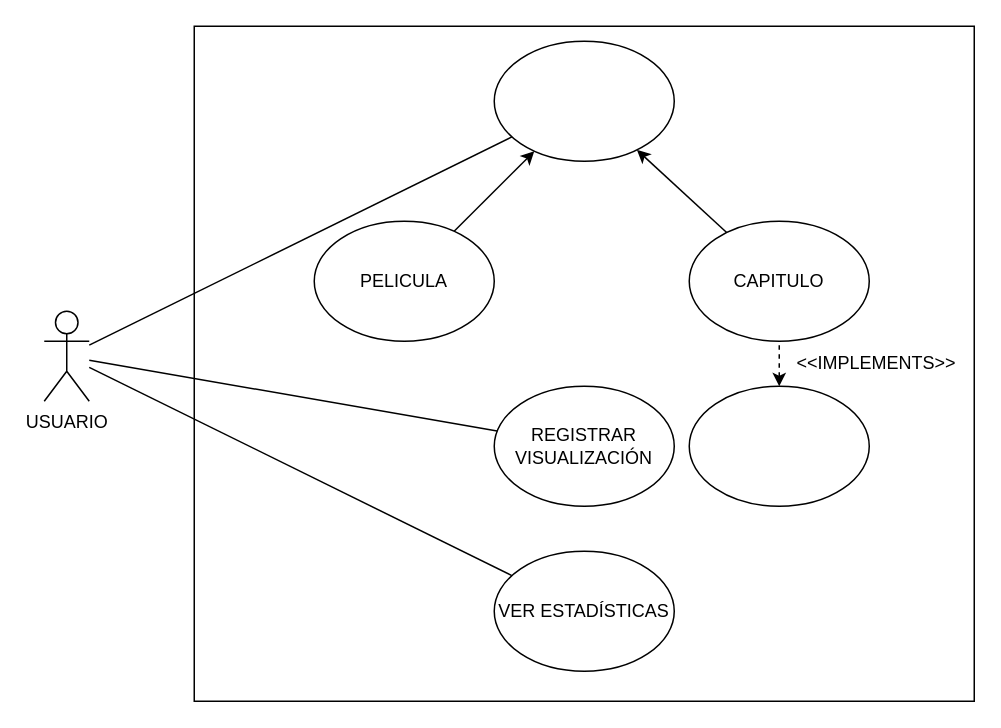
Image size: 1001x728. Some labels were removed from this diagram. Each missing label, with the centre of its shape:
AÑADIR CONTENIDO: pixel 583 100
SERIE: pixel 778 445
